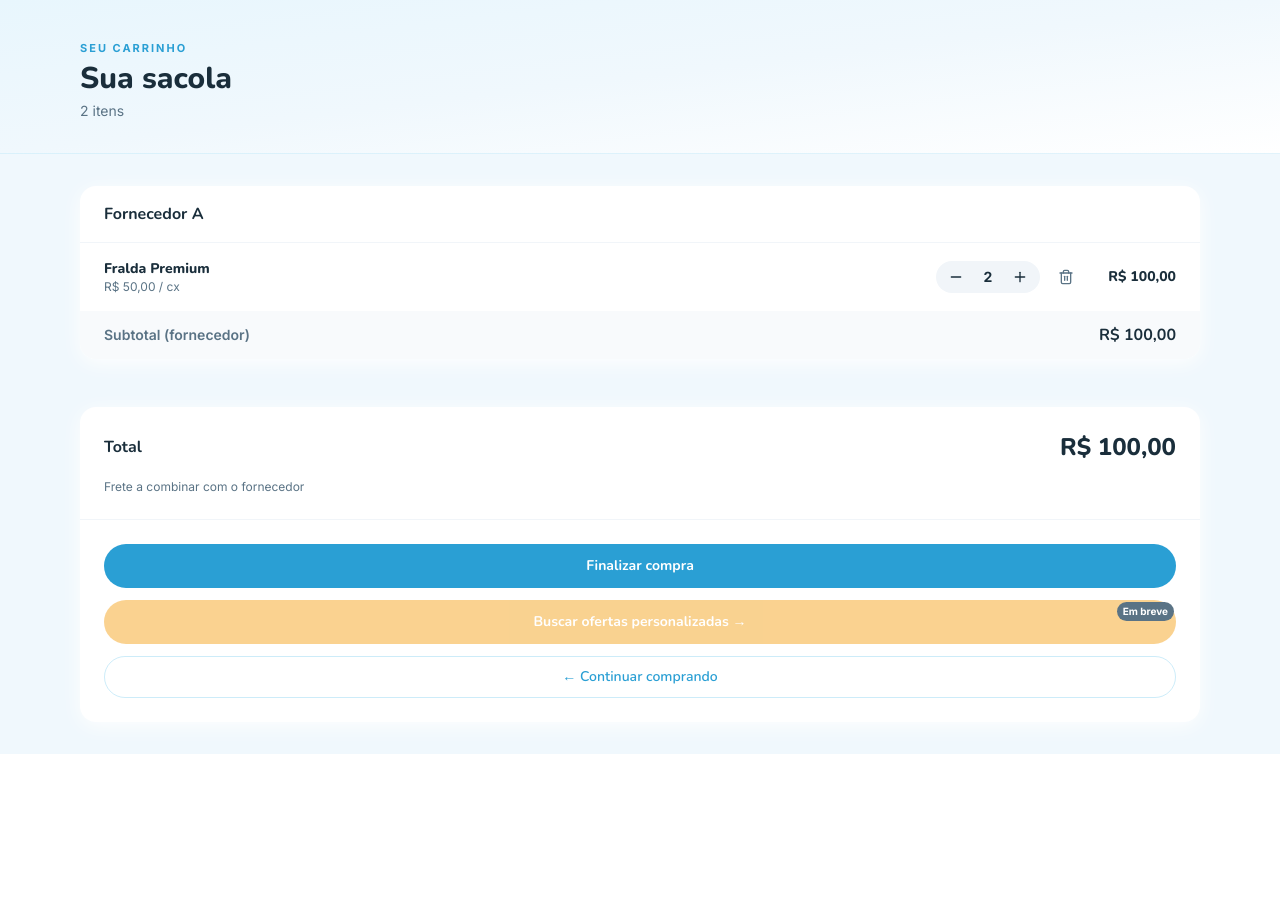
it: SacolaPage › Cart with items › should decrease quantity when clicking - button
Click the button named "Diminuir quantidade": (956, 276) top-left (944, 264), bottom-right (968, 288)
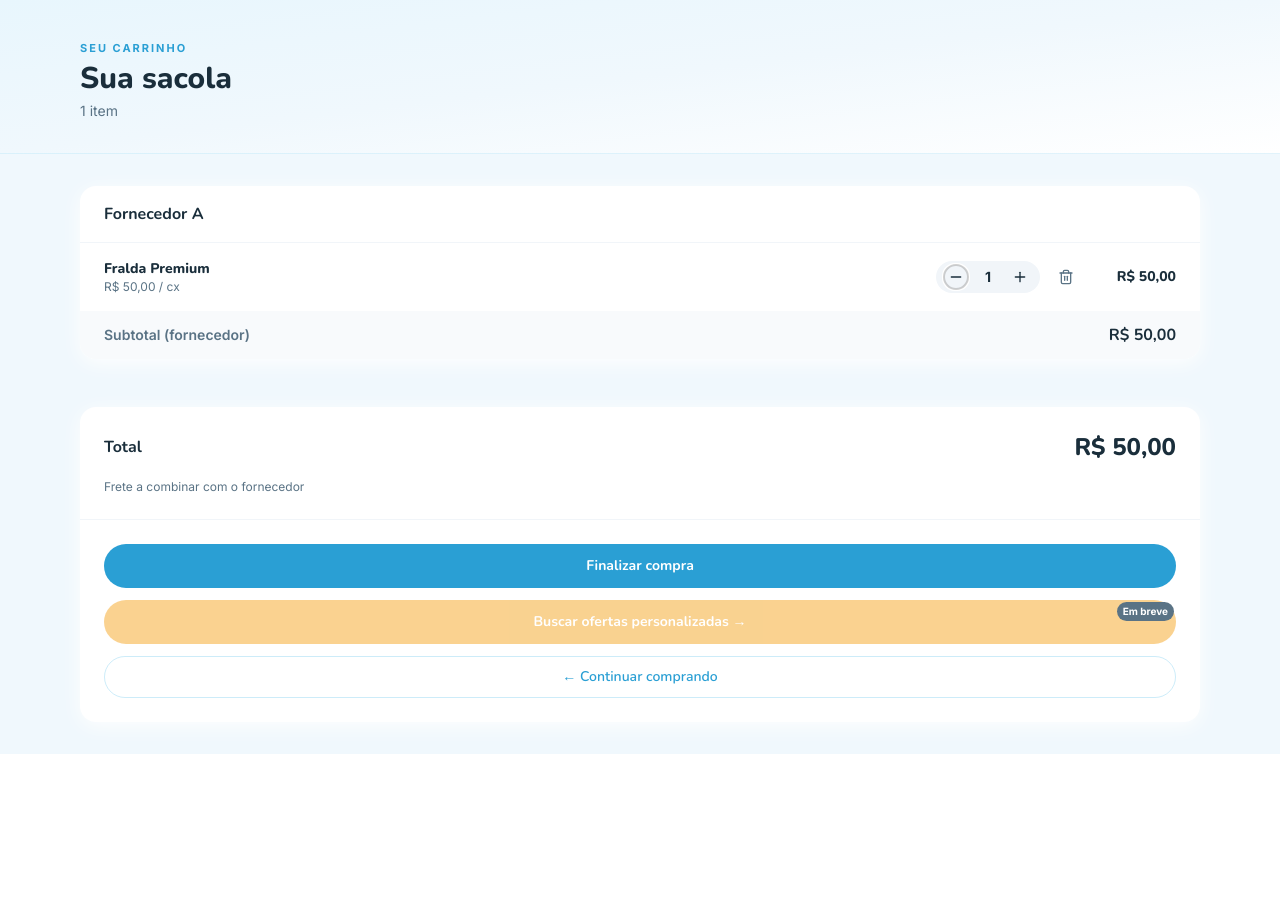
Expected: the text "1" is shown, top-left (985, 268), bottom-right (991, 284)
